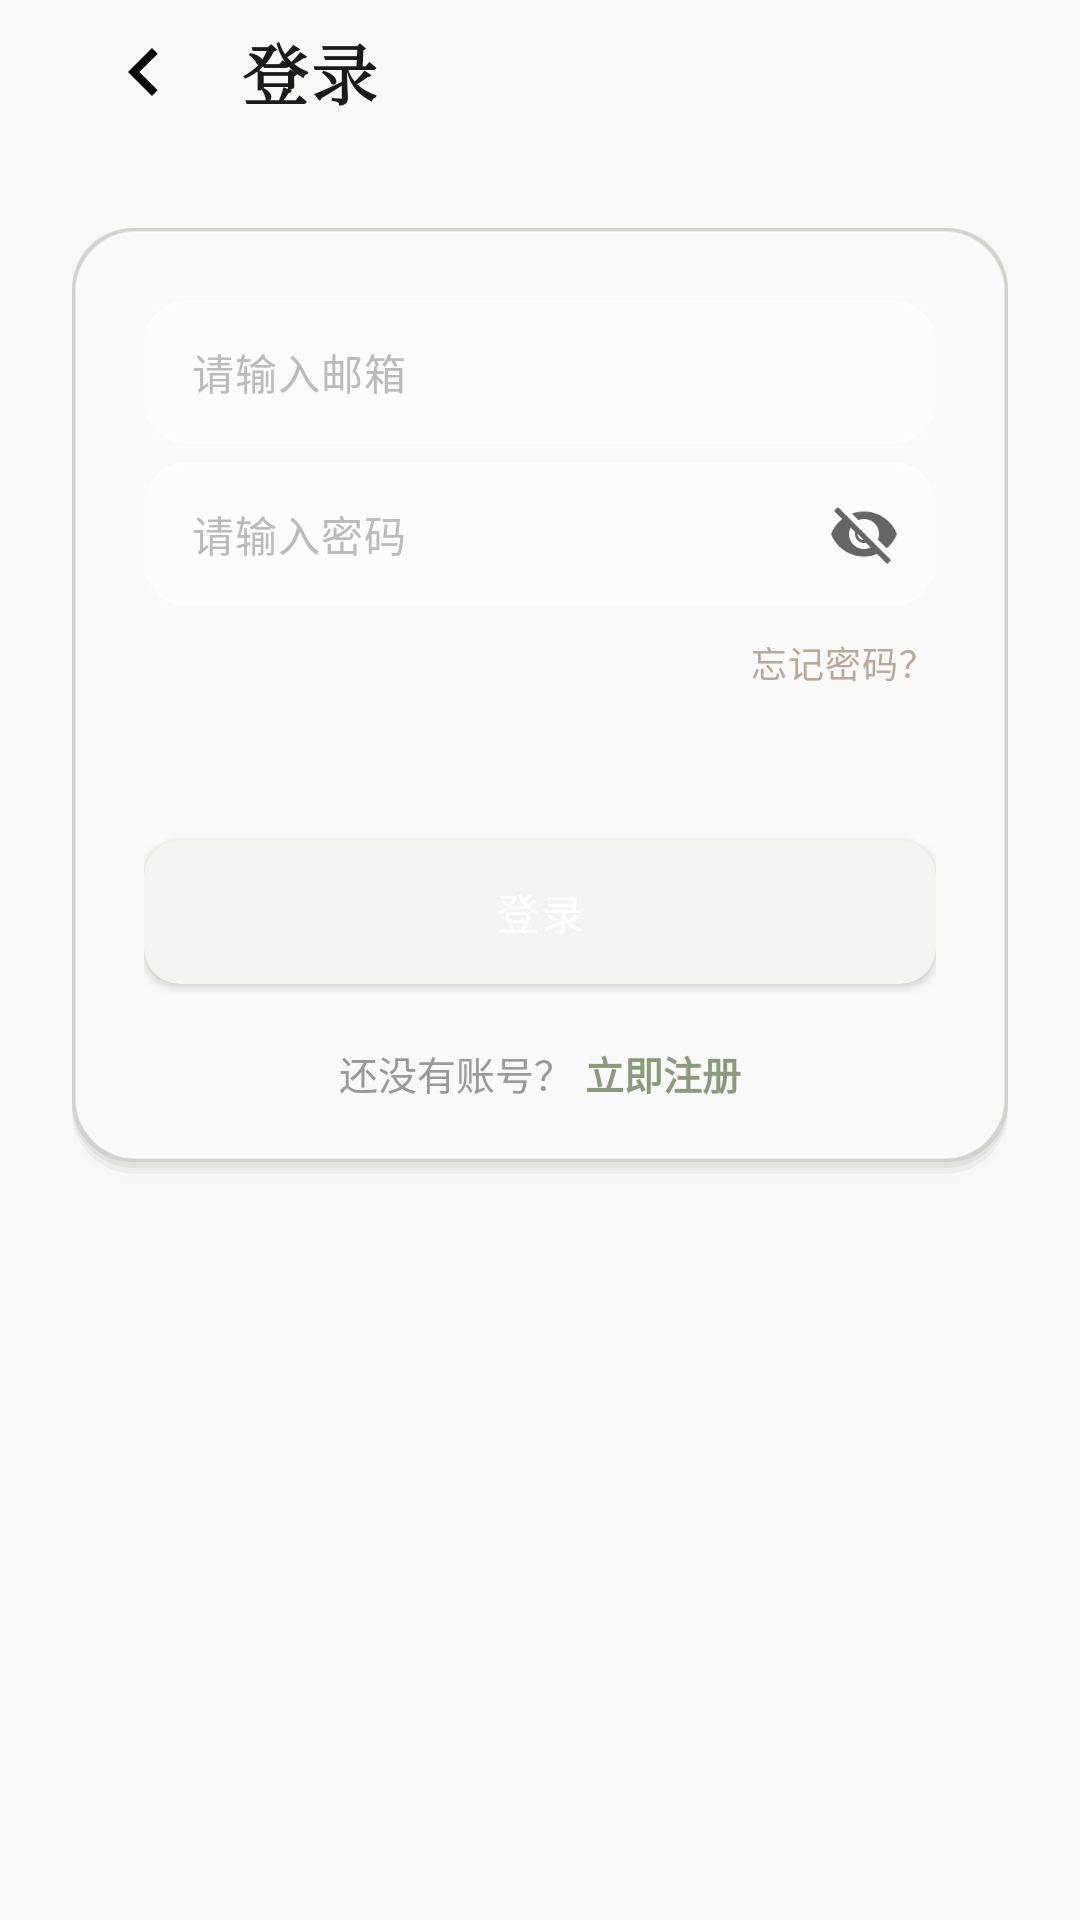

Locate icon controls on the screen. Image size 1080 × 1920, boxes as (x1, y1, x2, y2).
切换密码可见性: (831, 507, 897, 564)
返回: (128, 48, 158, 96)
